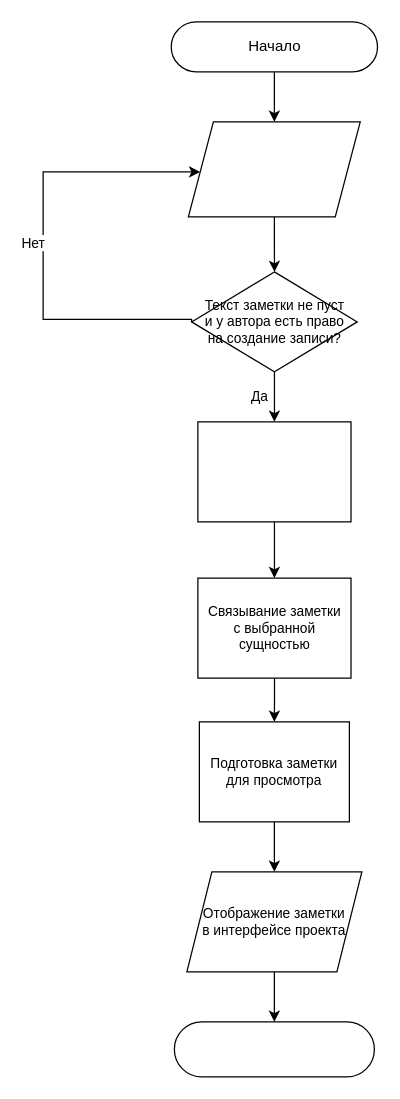
Image size: 400x1099. Some labels were removed from this diagram. The box of each missing label's shape, as (x1, y1, x2, y2) in pixels:
Ввод текста заметки и выбор связанного объекта проекта: (187, 121, 360, 217)
Конец: (173, 1021, 374, 1077)
Сохранение заметки: (197, 421, 351, 522)
